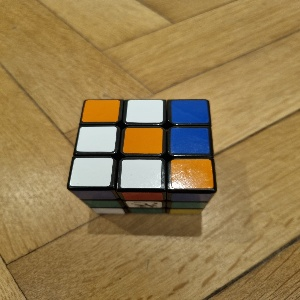cube: (66, 99, 219, 214)
